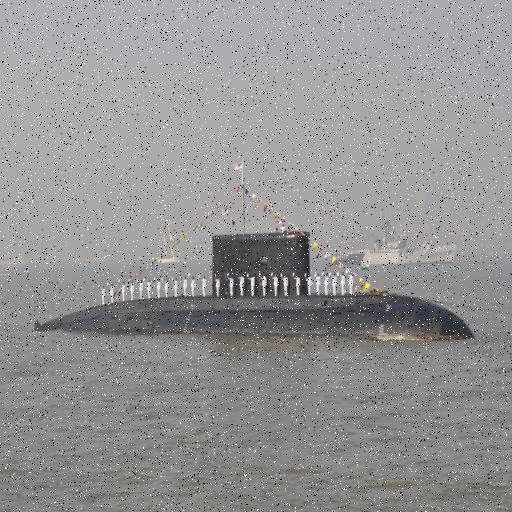submarine: (36, 233, 477, 341)
